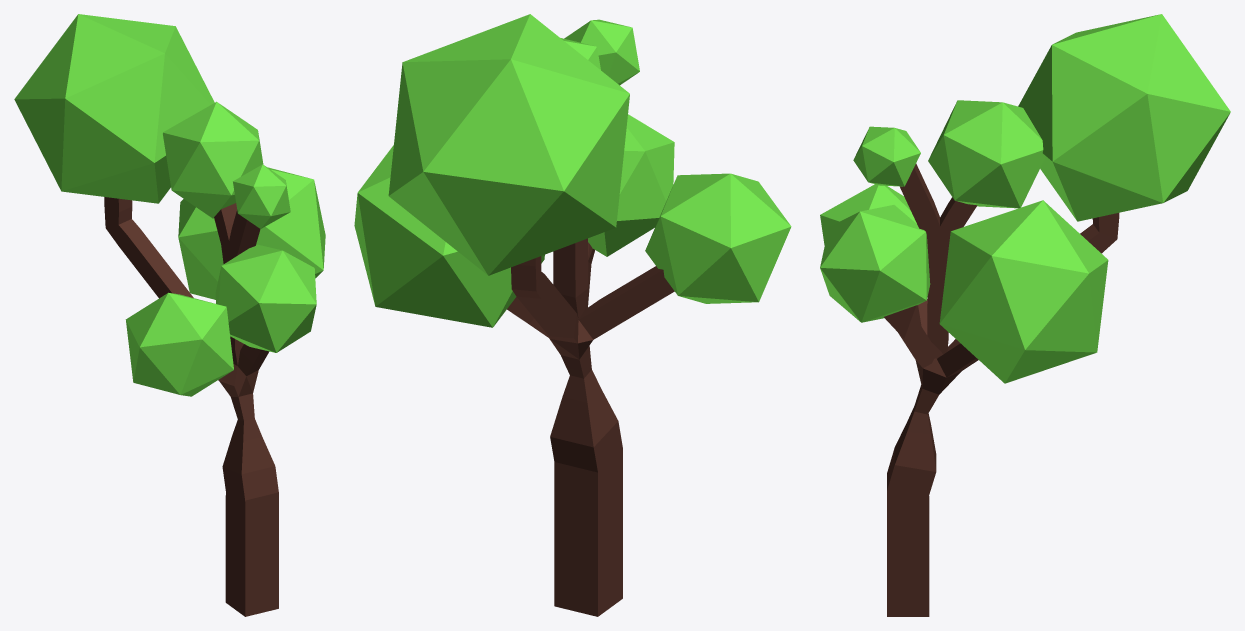
Rendered from Pohon-LowPoly3.fbx.
3 views of the same model, side by side, from view 1: azimuth 30°, elevation 25°; view 2: azimuth 150°, elevation 25°; view 3: azimuth 270°, elevation 25° (orthographic). The views are drawn at different scales.
Visible parts, largest first — view 1: Icosphere.016, Cube.002, Icosphere.014, Icosphere.011, Icosphere.013, Icosphere.015, Icosphere.012; view 2: Icosphere.016, Cube.002, Icosphere.014, Icosphere.015, Icosphere.011, Icosphere.012; view 3: Icosphere.016, Icosphere.015, Cube.002, Icosphere.011, Icosphere.013, Icosphere.012, Icosphere.014.
Boxes of the visible parts, x1,y1,x2,y2 form: Icosphere.016: [14, 14, 214, 203]; Cube.002: [104, 197, 278, 616]; Icosphere.014: [125, 292, 233, 396]; Icosphere.011: [215, 244, 316, 352]; Icosphere.013: [163, 101, 263, 218]; Icosphere.015: [178, 167, 325, 299]; Icosphere.012: [233, 164, 290, 228]; Icosphere.016: [388, 14, 629, 275]; Cube.002: [507, 238, 674, 616]; Icosphere.014: [645, 173, 791, 303]; Icosphere.015: [354, 145, 544, 327]; Icosphere.011: [588, 114, 674, 256]; Icosphere.012: [564, 19, 639, 85]; Icosphere.016: [1018, 14, 1230, 221]; Icosphere.015: [939, 200, 1108, 383]; Cube.002: [884, 163, 1119, 616]; Icosphere.011: [820, 205, 930, 322]; Icosphere.013: [928, 100, 1044, 208]; Icosphere.012: [853, 126, 920, 186]; Icosphere.014: [820, 184, 916, 245].
Bounding box in the file's own units: 1203 × 2280 × 1506.
